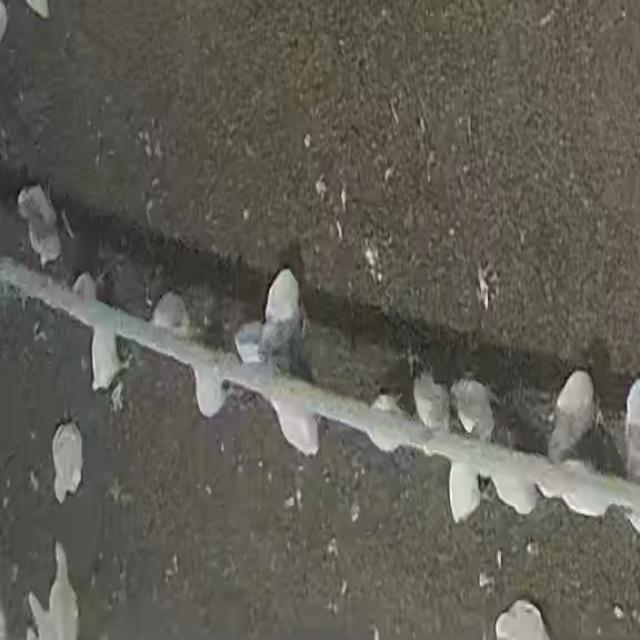chicken: (26, 546, 79, 640), (548, 371, 596, 463), (19, 179, 70, 265), (48, 418, 86, 506), (86, 324, 130, 392), (535, 460, 599, 506), (487, 459, 539, 514), (452, 377, 496, 440), (494, 597, 552, 640), (273, 400, 319, 454), (412, 370, 448, 430), (264, 268, 302, 324), (447, 462, 480, 523), (193, 368, 224, 418), (152, 290, 188, 332), (234, 322, 265, 364)
